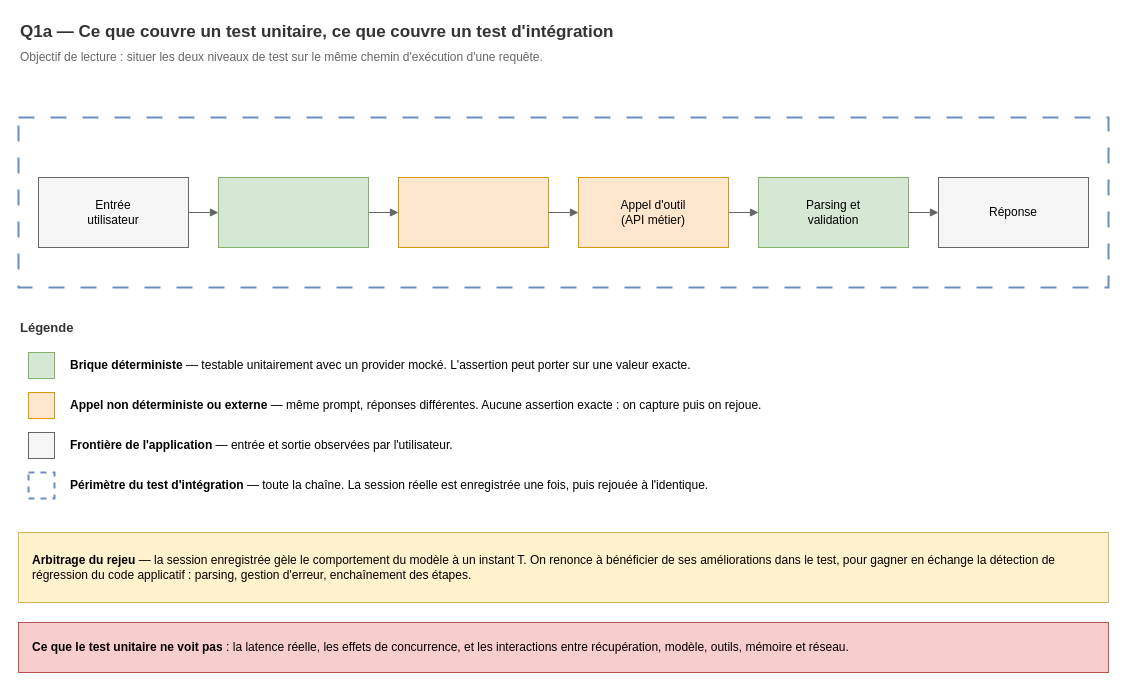
Image size: 1126x690. Some labels were removed from this diagram. Each missing label, with the box of its shape:
Appel LLM: (398, 176, 548, 248)
Construction du prompt: (218, 176, 368, 248)
PÉRIMÈTRE DU TEST D'INTÉGRATION: (17, 116, 1109, 288)
